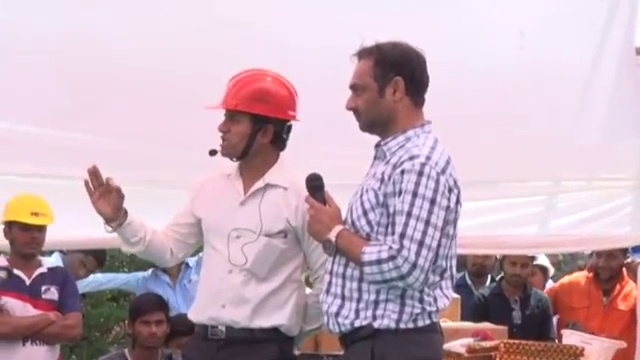helmet: (198, 74, 304, 122), (559, 329, 628, 359), (0, 196, 56, 231), (529, 257, 557, 279)
helmet_off: (347, 41, 434, 140), (124, 296, 172, 354), (57, 244, 102, 287), (159, 312, 196, 353), (590, 246, 628, 285), (500, 253, 534, 292), (465, 252, 498, 283)
helmet_on: (198, 71, 304, 175), (0, 196, 57, 269), (527, 257, 557, 297)
person: (85, 66, 333, 360), (303, 38, 466, 360), (0, 194, 85, 359), (547, 246, 640, 359), (471, 258, 556, 338), (448, 252, 499, 321), (146, 252, 202, 314)
